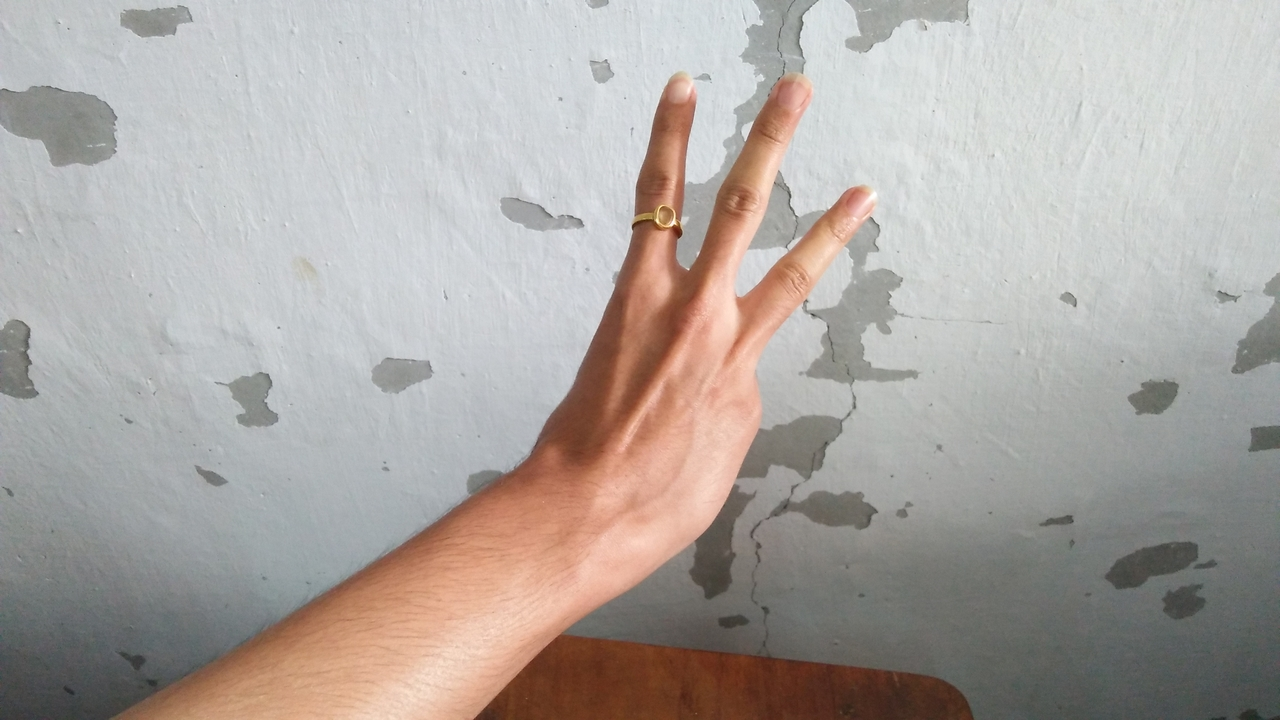fingertip: (826, 168, 888, 226), (764, 62, 824, 116), (652, 64, 706, 114)
